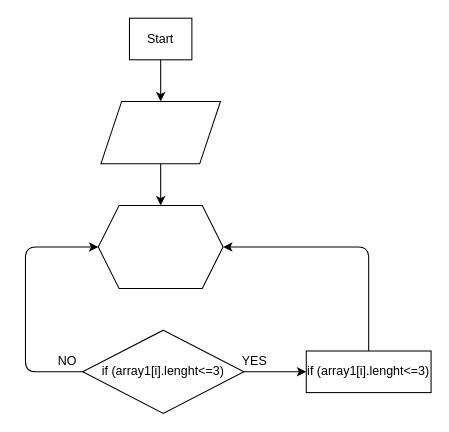
The diagram is 449 pixels wide and 432 high, and some of its shapes have lost their labels. Here are the shapes that lost their labels. From the top down, the centre of each, then its label:
(x=160, y=132): strinf [] array1; string [] array2; int count = 0;
(x=160, y=246): for (int i=0; i<array1.lenght; i++)
